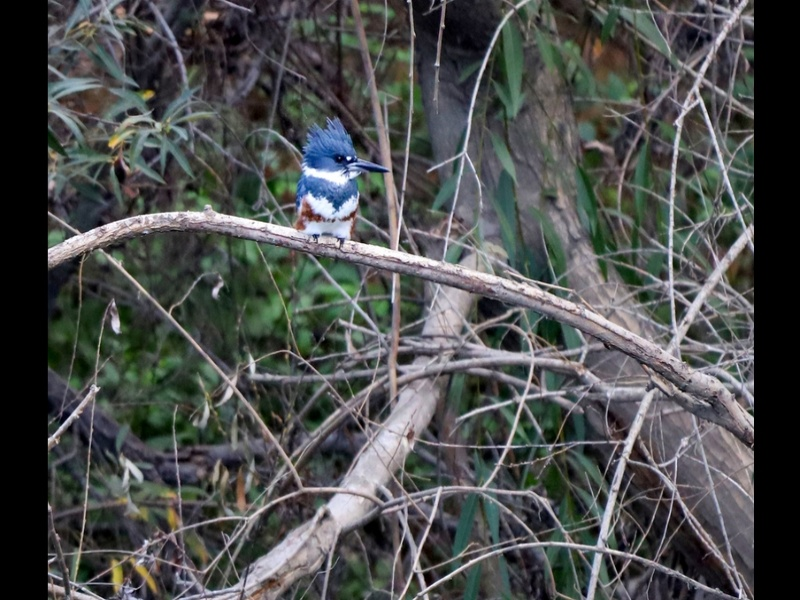kingfisher: (288, 108, 397, 264)
